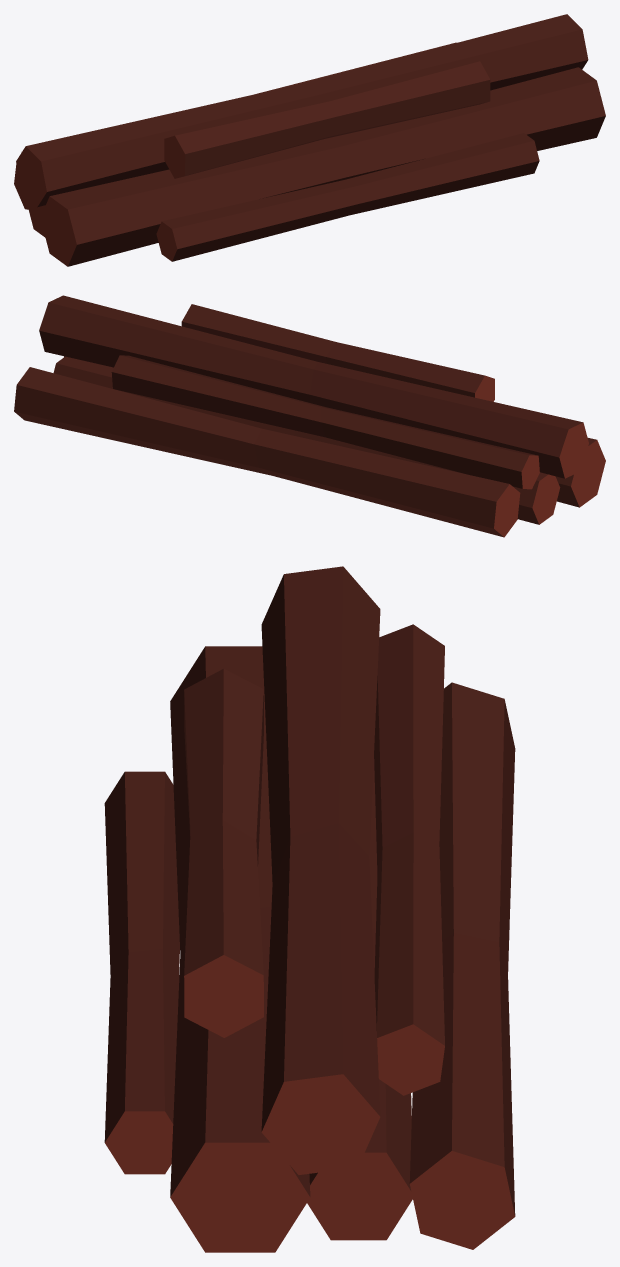
Rendered from Log_8_Red.fbx.
3 views of the same model, one above another, from view 1: azimuth 30°, elevation 25°; view 2: azimuth 150°, elevation 25°; view 3: azimuth 270°, elevation 25° (orthographic). The views are drawn at different scales.
Parts seen in each view (by area): view 1: Log_8_Red; view 2: Log_8_Red; view 3: Log_8_Red.
Part boxes in pixels (x1,y1,x2,y2): Log_8_Red: (14, 14, 605, 266); Log_8_Red: (14, 295, 605, 537); Log_8_Red: (104, 566, 515, 1252).
Size of the model in its own units: 431 by 76.27 by 147.
